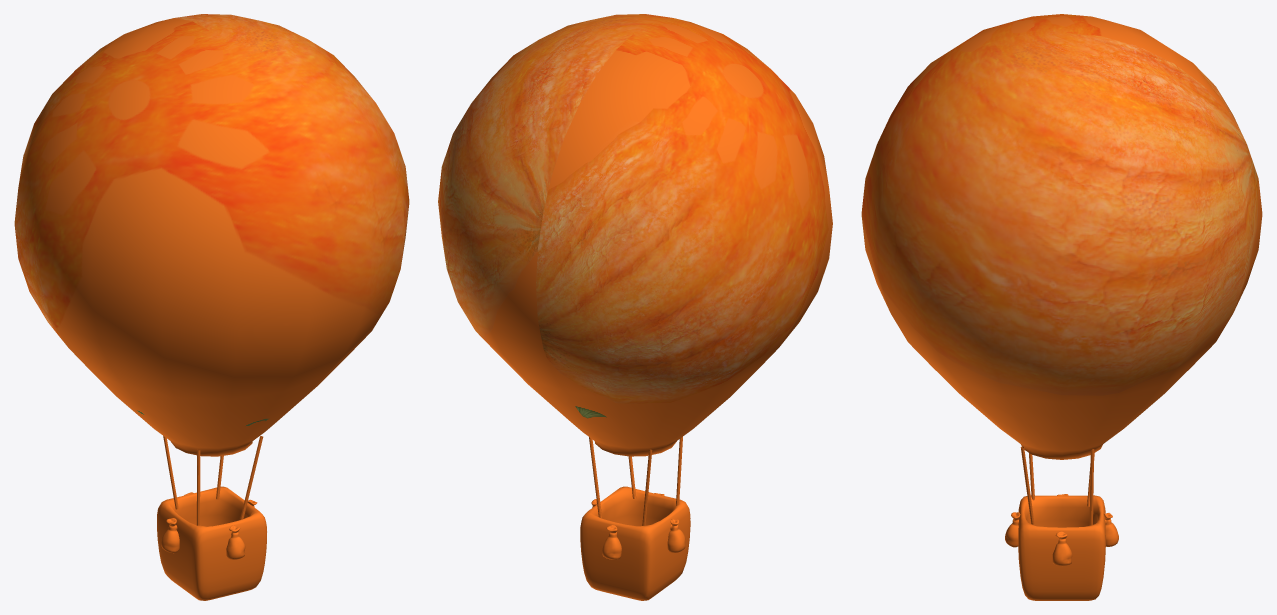
Rendered from balloon_15.03.2020_boxes.fbx.
3 renders of one model, left to right at view 1: azimuth 30°, elevation 25°; view 2: azimuth 150°, elevation 25°; view 3: azimuth 270°, elevation 25°, orthographic.
Parts seen in each view (by area): view 1: Cube; view 2: Cube; view 3: Cube.
Part boxes in pixels (bbox=[...]): Cube: bbox=[14, 14, 409, 600]; Cube: bbox=[438, 14, 832, 600]; Cube: bbox=[861, 14, 1262, 600].
Bounding box in the file's own units: 657 × 1006 × 657.
